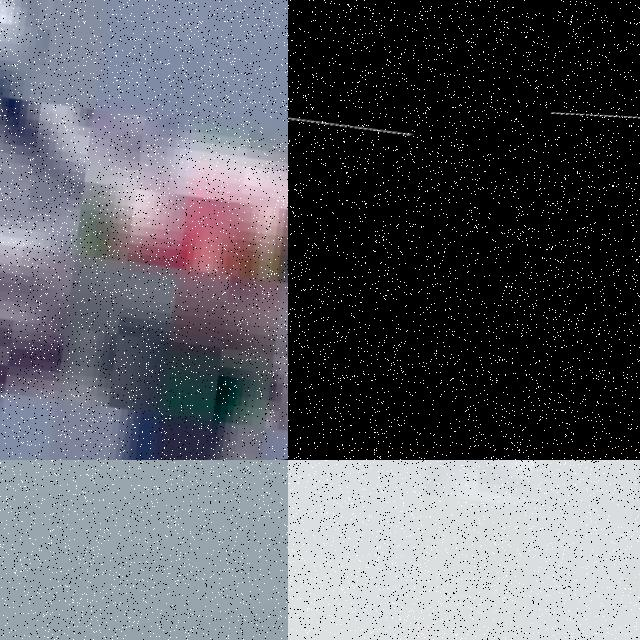drone: (0, 0, 288, 460), (288, 0, 640, 184), (288, 460, 640, 640)
